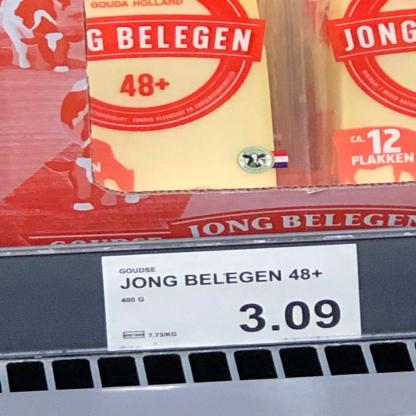prtg: (102, 245, 363, 352)
